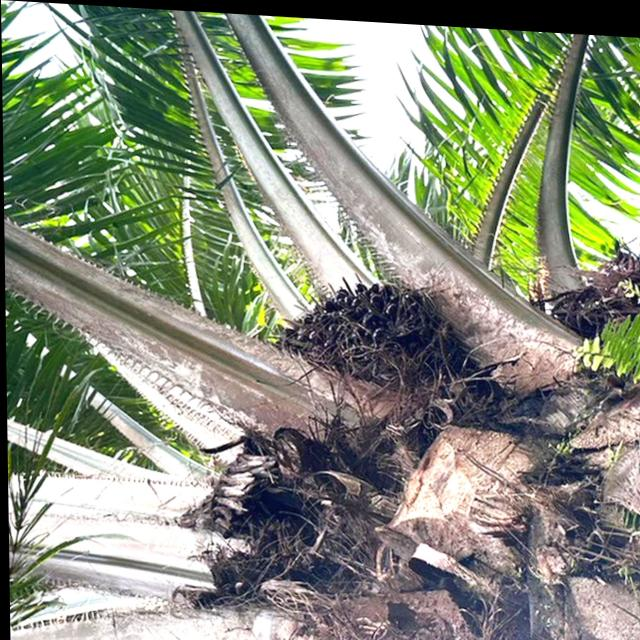almost: (265, 267, 447, 385)
